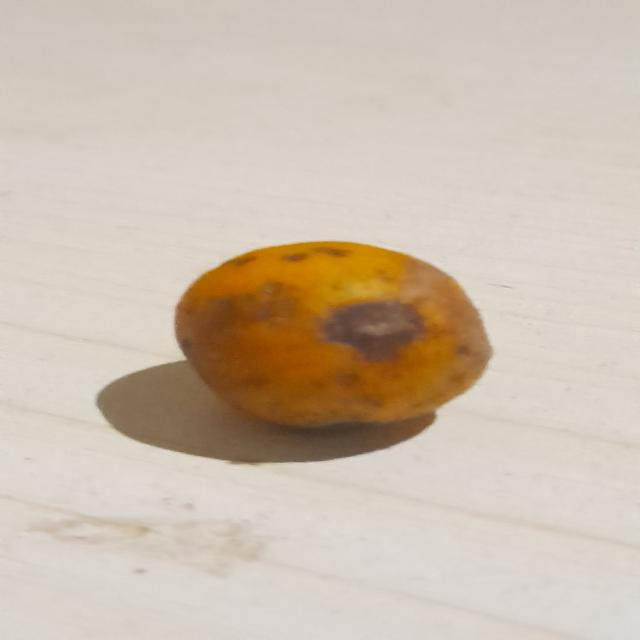black spot: (166, 241, 494, 436)
